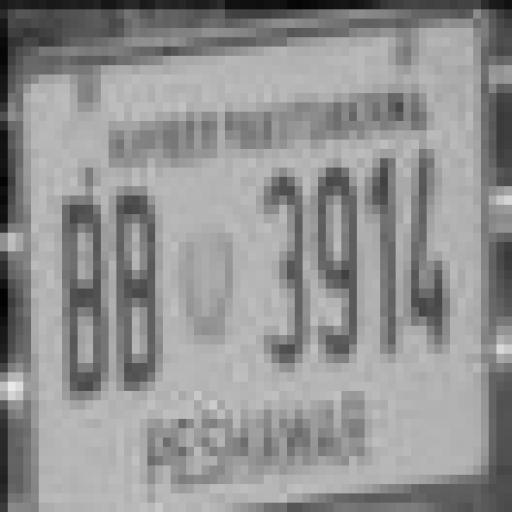1: (364, 165, 404, 364)
3: (255, 174, 310, 372)
4: (407, 147, 466, 372)
9: (305, 164, 361, 368)
B: (49, 184, 107, 403), (108, 180, 158, 395)
